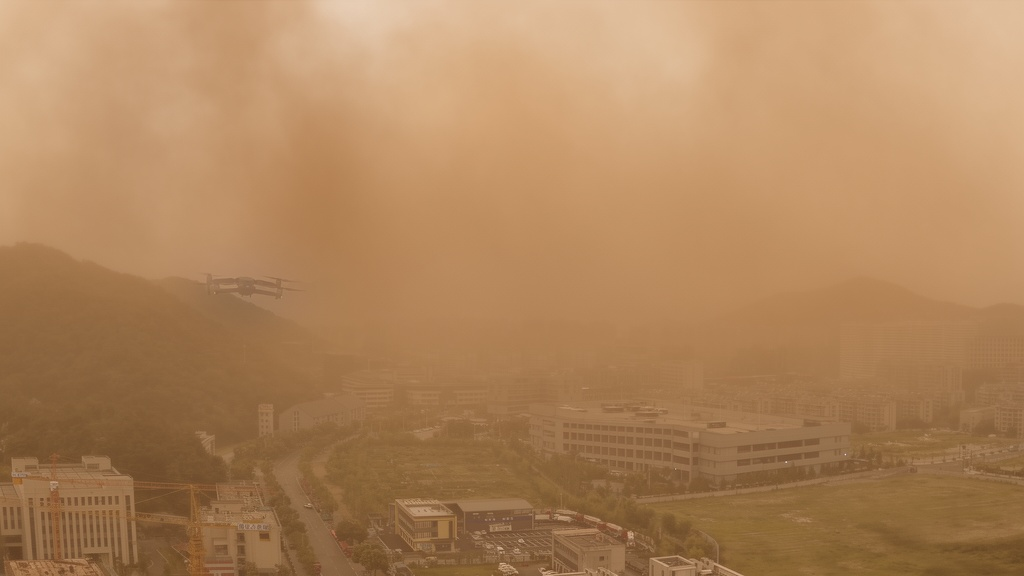UAV: (186, 268, 313, 301)
